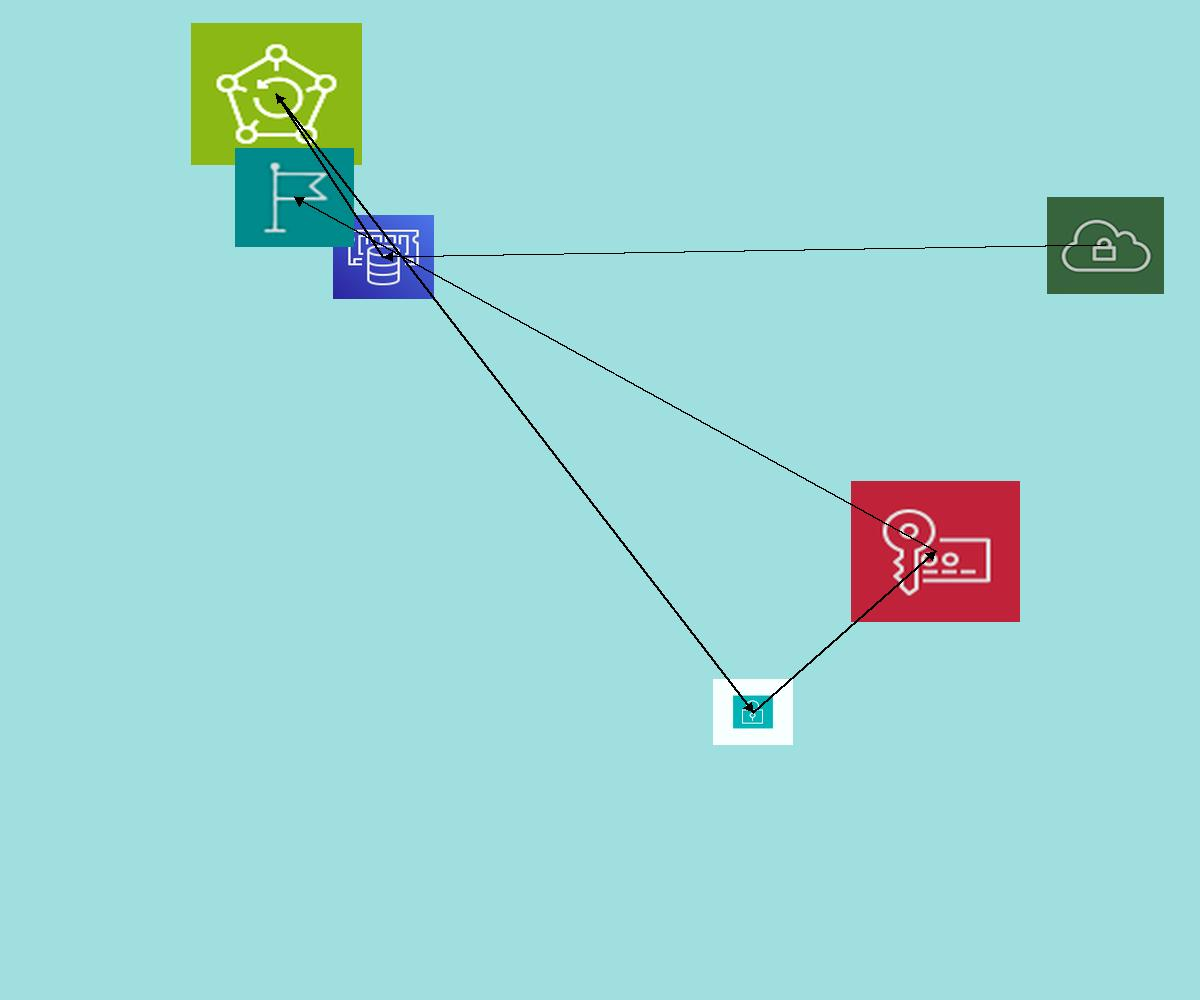AWS-Backup: (191, 23, 362, 165)
AWS-ElastiCache: (333, 215, 434, 299)
AWS-Key-Management-Service: (851, 481, 1020, 622)
AWS-Private-subnet: (713, 679, 793, 745)
AWS-Private_vpc: (1047, 197, 1164, 294)
AWS-Region: (235, 148, 354, 247)
